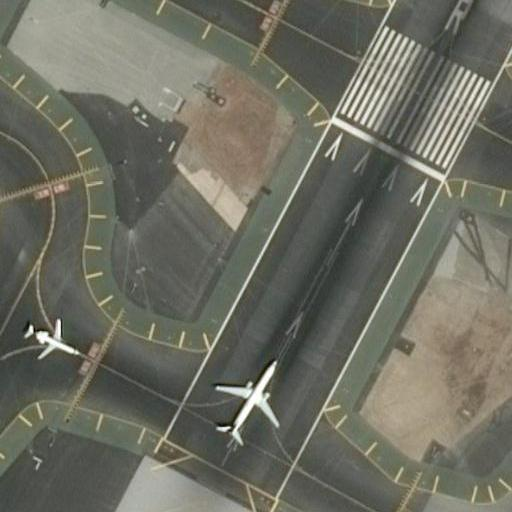Aircraft: (206, 347, 287, 448), (16, 308, 79, 363)
